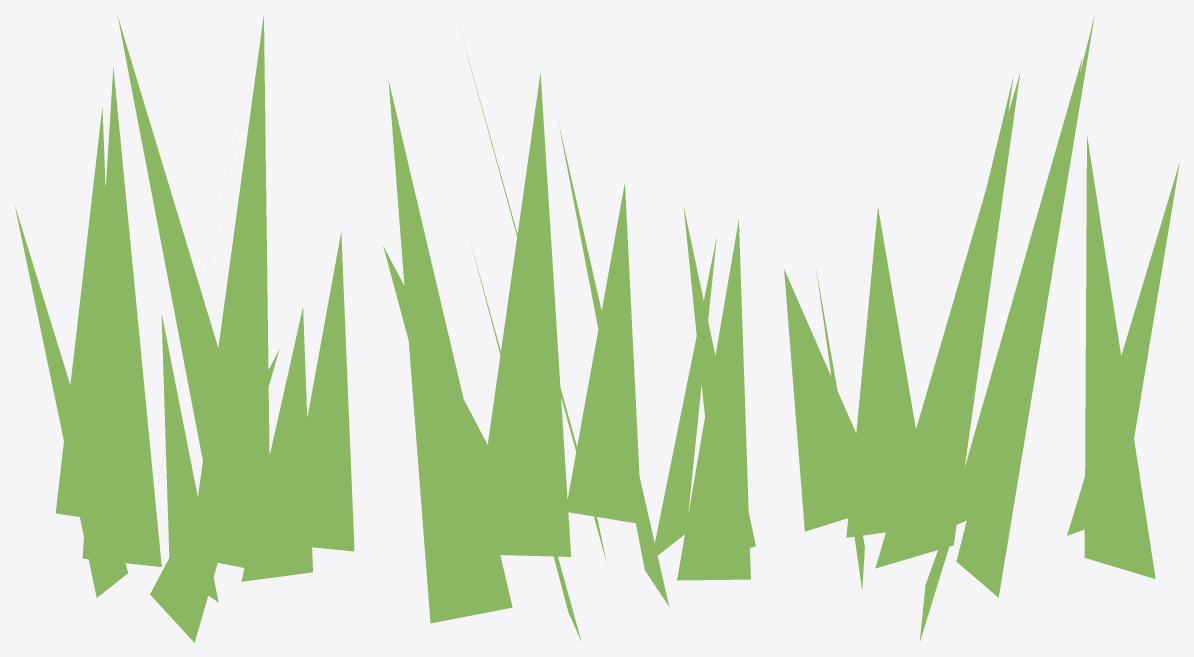
The model's file is Grass_c_OneS_05.fbx.
The picture shows the model from 3 angles, left to right: view 1: azimuth 30°, elevation 25°; view 2: azimuth 150°, elevation 25°; view 3: azimuth 270°, elevation 25°; orthographic projection. The views are drawn at different scales.
Parts seen in each view (by area): view 1: Grass_c_OneS_05; view 2: Grass_c_OneS_05; view 3: Grass_c_OneS_05.
Boxes of the visible parts, x1,y1,x2,y2 form: Grass_c_OneS_05: [15, 15, 354, 642]; Grass_c_OneS_05: [383, 36, 755, 641]; Grass_c_OneS_05: [784, 16, 1179, 641].
Size of the model in its own units: 0.4207 by 0.6367 by 0.4167.
